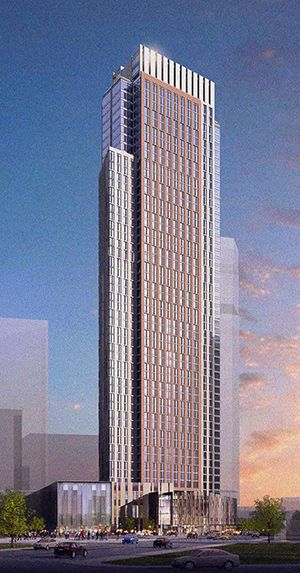Sky Building: (79, 45, 246, 524)
